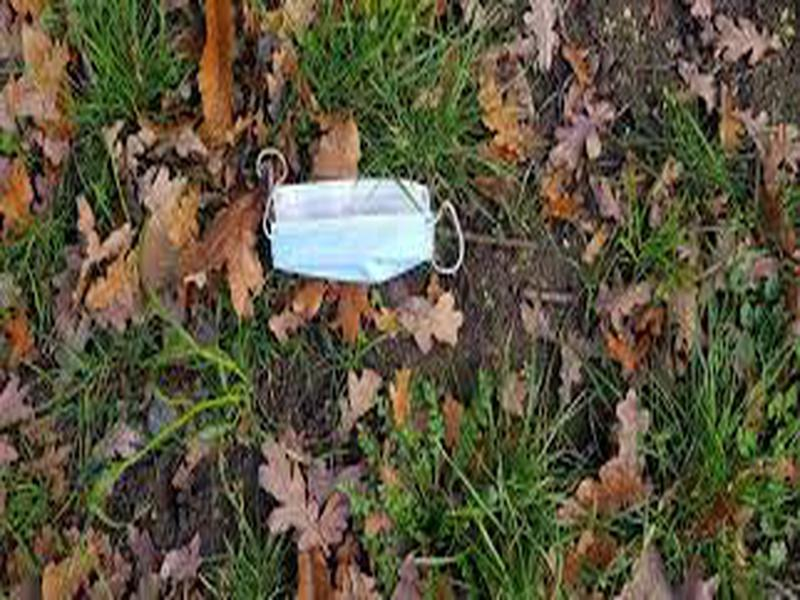leaf: (255, 439, 352, 555), (187, 1, 247, 146), (547, 98, 618, 177), (696, 14, 782, 69), (399, 295, 471, 355)
mask: (251, 150, 471, 291)
